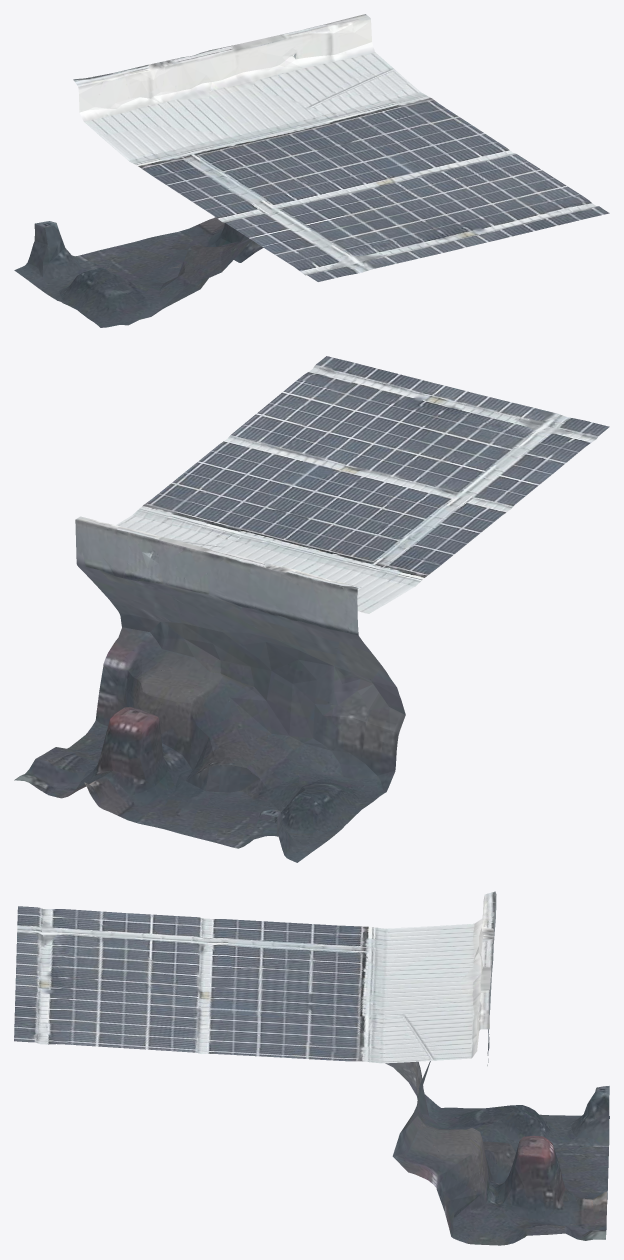
Rendered from Tile_+007_+010_L21_0uuuu201.glb.
3 views of the same model, one above another, from view 1: azimuth 30°, elevation 25°; view 2: azimuth 150°, elevation 25°; view 3: azimuth 270°, elevation 25° (orthographic). The views are drawn at different scales.
Parts seen in each view (by area): view 1: rtc; view 2: rtc; view 3: rtc.
Part boxes in pixels (x1=…): rtc: x1=14, y1=14, x2=609, y2=327; rtc: x1=14, y1=356, x2=609, y2=862; rtc: x1=14, y1=891, x2=609, y2=1245.
Bounding box in the file's own units: 14.97 × 11.38 × 27.34.
1 material, 1 textured.
